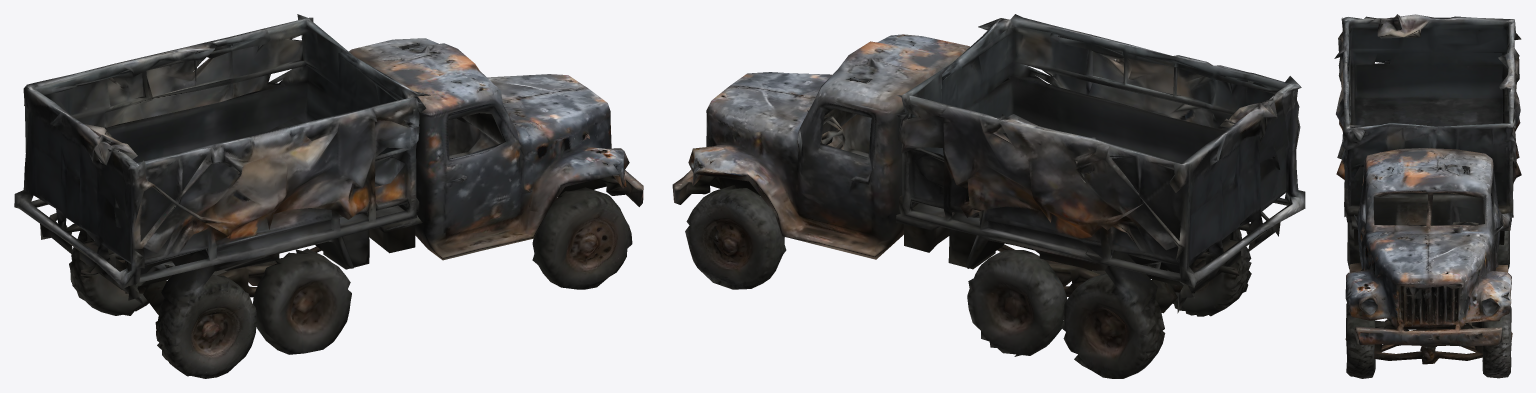
Rendered from ul_ural_wreck.glb.
3 views of the same model, side by side, from view 1: azimuth 30°, elevation 25°; view 2: azimuth 150°, elevation 25°; view 3: azimuth 270°, elevation 25° (orthographic). The views are drawn at different scales.
Parts seen in each view (by area): view 1: tripo_node_a7f50c78-0b1d-4b8d-b082-8b979af61a9a; view 2: tripo_node_a7f50c78-0b1d-4b8d-b082-8b979af61a9a; view 3: tripo_node_a7f50c78-0b1d-4b8d-b082-8b979af61a9a.
Boxes of the visible parts, left/top/right/bottom form: tripo_node_a7f50c78-0b1d-4b8d-b082-8b979af61a9a: left=14, top=14, right=643, bottom=378; tripo_node_a7f50c78-0b1d-4b8d-b082-8b979af61a9a: left=672, top=14, right=1305, bottom=378; tripo_node_a7f50c78-0b1d-4b8d-b082-8b979af61a9a: left=1334, top=14, right=1521, bottom=378.
Bounding box in the file's own units: 1 × 0.4404 × 0.3961.
1 material, 1 textured.
